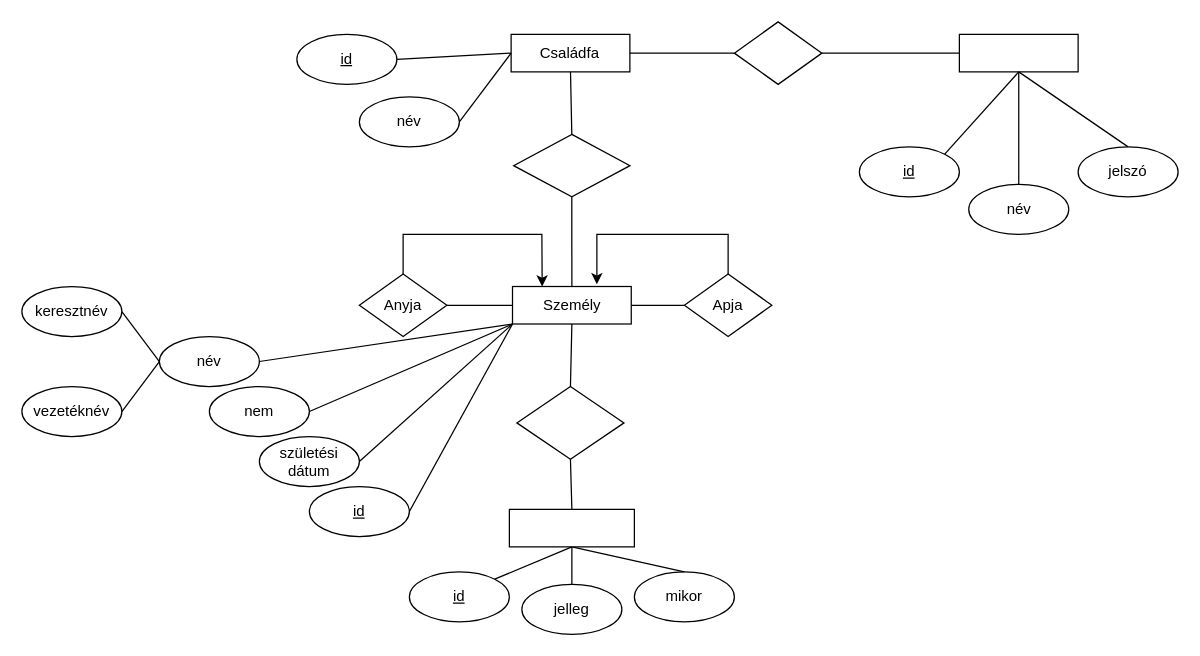
Image size: 1200x656. Some labels were removed from this diagram. Each missing label, with the box of its shape:
Családfa része: (512, 133, 630, 197)
Esemény: (508, 508, 634, 547)
Esemény része: (516, 385, 624, 459)
Felhasználó: (958, 33, 1078, 72)
Szerkeszti: (733, 21, 822, 84)
